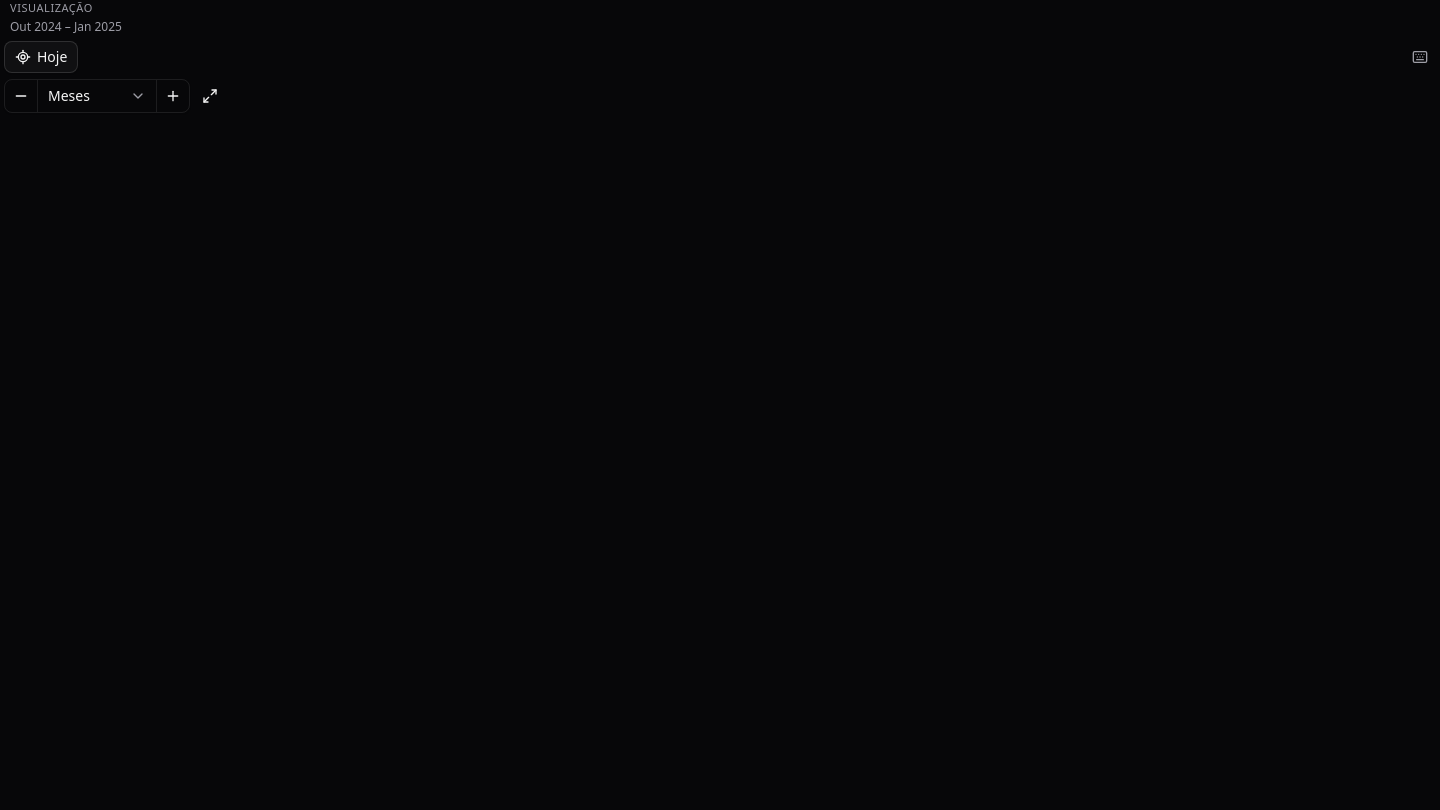
TimelineViewControls › keyboard shortcuts › opens the shortcuts help from its button
Click the button named "Atalhos de teclado": (1420, 56) [1404,40,1436,72]
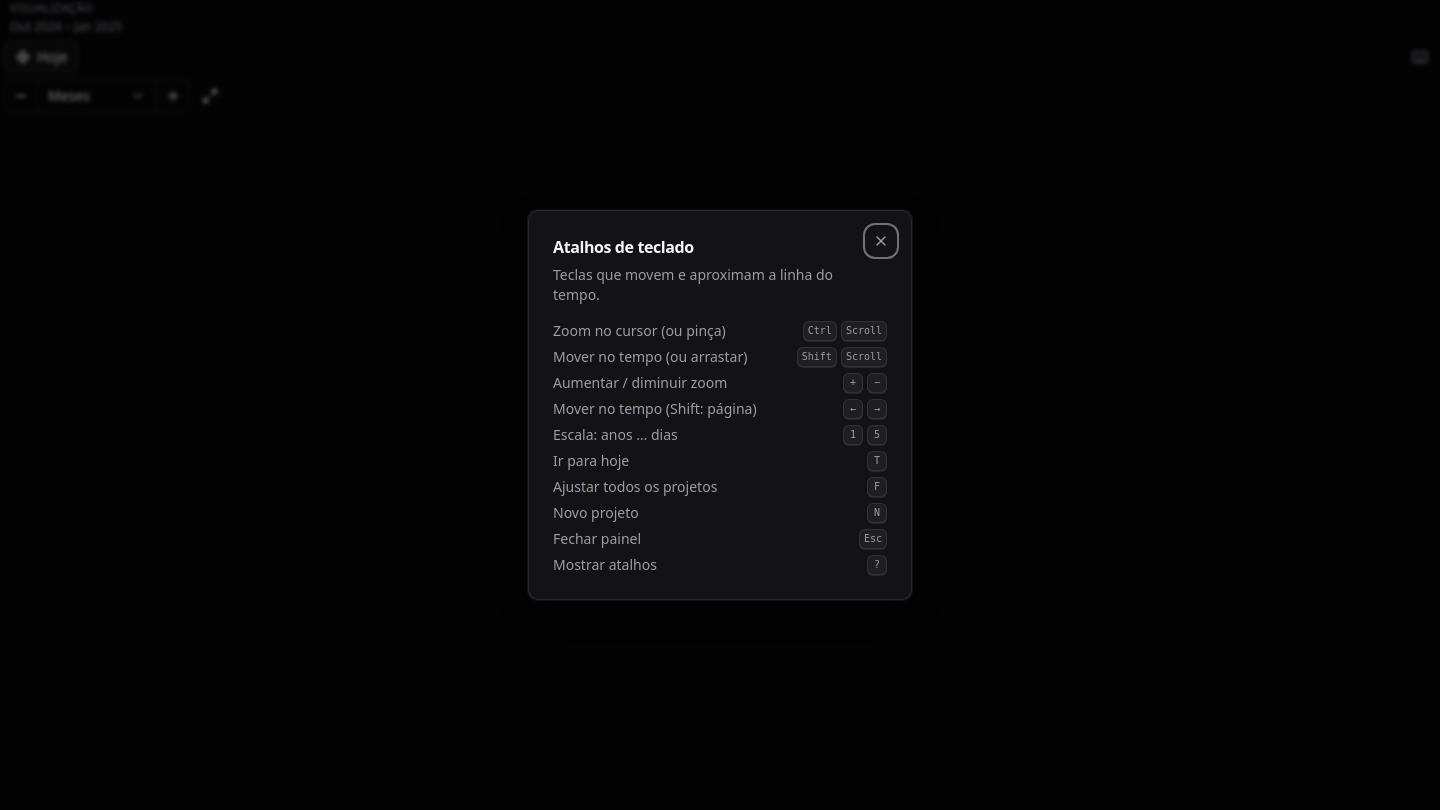
Expected: the dialog "Atalhos de teclado" is shown, [528,210,912,600]
